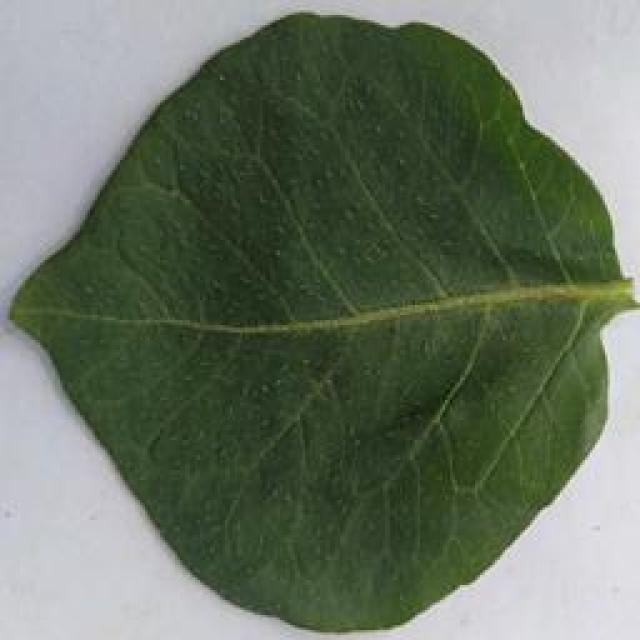Potato_Healthy: (3, 8, 633, 632)
